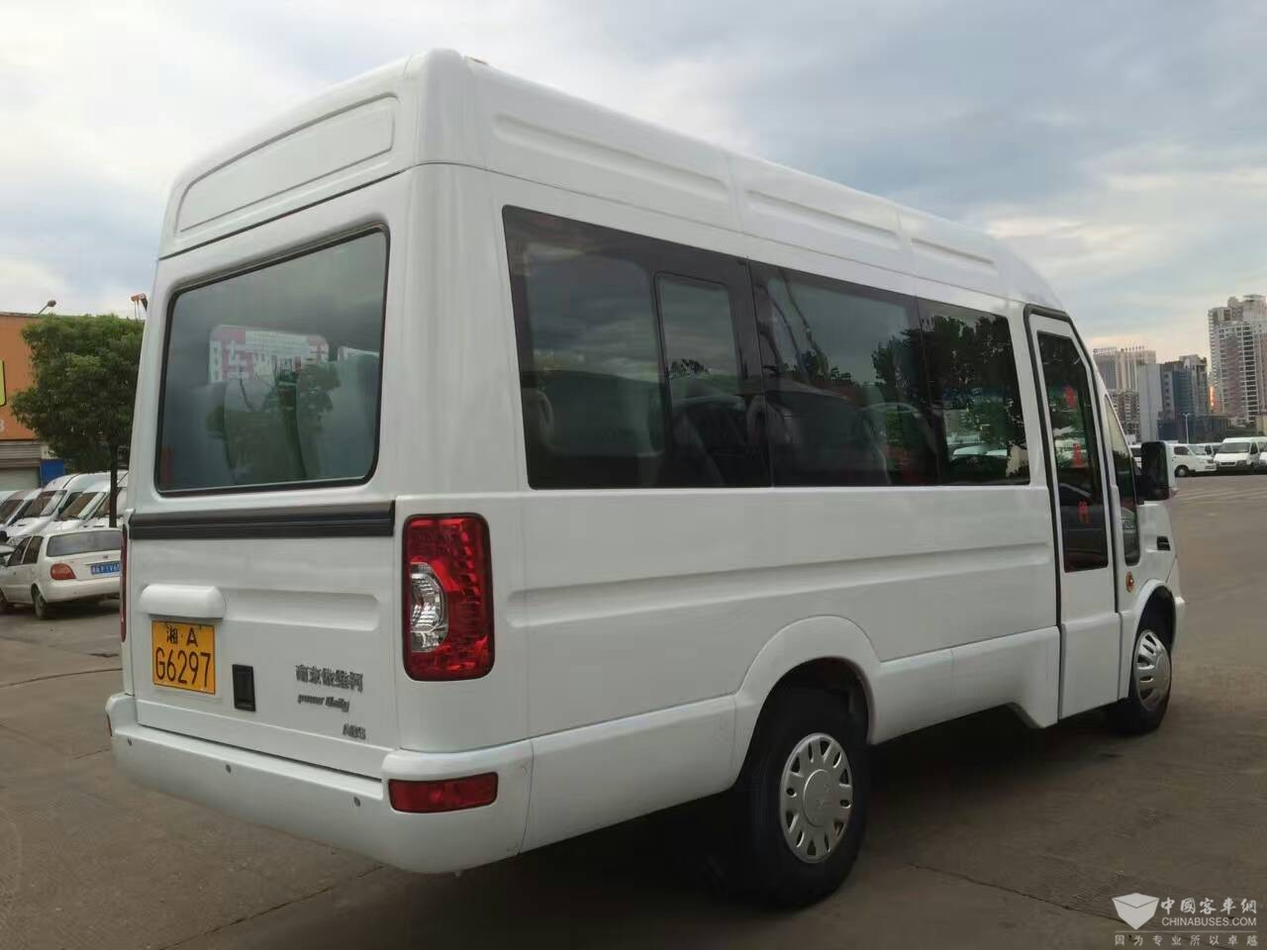midcar: (131, 51, 1220, 887)
